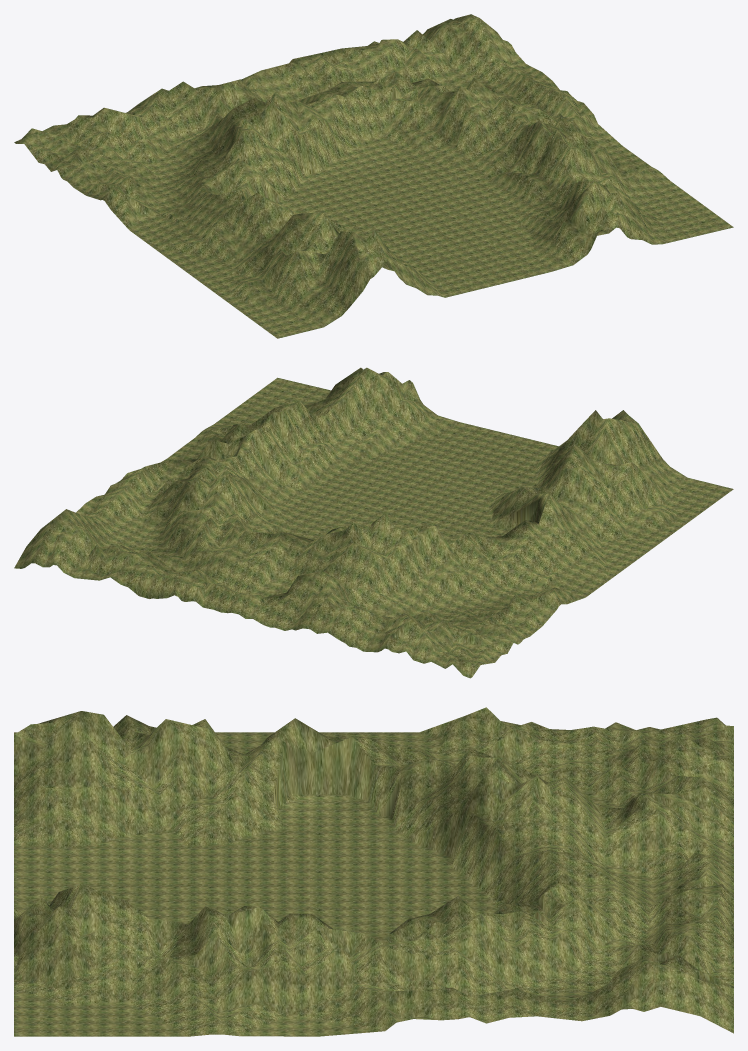
3 renders of one model, top to bottom at view 1: azimuth 30°, elevation 25°; view 2: azimuth 150°, elevation 25°; view 3: azimuth 270°, elevation 25°, orthographic. The views are drawn at different scales.
Visible parts, largest first — view 1: Mesh; view 2: Mesh; view 3: Mesh.
Boxes of the visible parts, x1,y1,x2,y2 form: Mesh: (14, 14, 733, 338); Mesh: (14, 367, 733, 678); Mesh: (14, 707, 733, 1036).
Size of the model in its own units: 150 by 20.58 by 150.
Materials: 1 (1 with a texture image).
